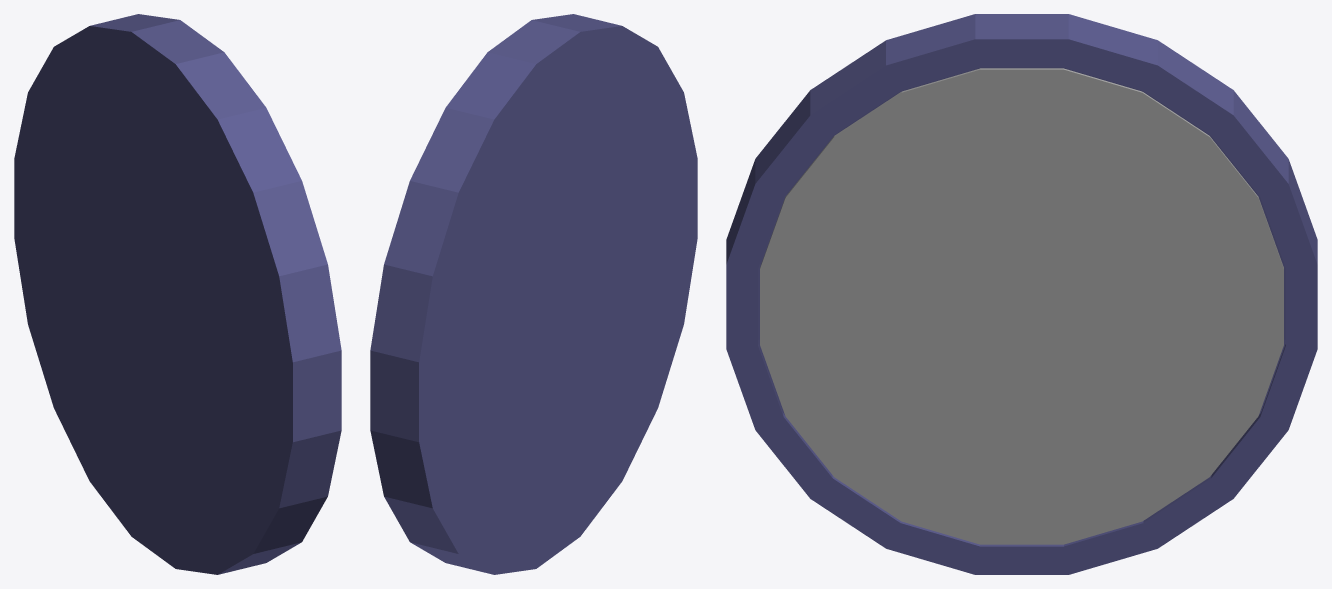
Rendered from DialGlass.fbx.
3 renders of one model, left to right at view 1: azimuth 30°, elevation 25°; view 2: azimuth 150°, elevation 25°; view 3: azimuth 270°, elevation 25°, orthographic. The views are drawn at different scales.
Visible parts, largest first — view 1: Dial20; view 2: Dial20; view 3: Dial20.
Boxes of the visible parts, x1,y1,x2,y2 form: Dial20: (14, 14, 341, 574); Dial20: (370, 14, 697, 574); Dial20: (726, 14, 1317, 574).
Bounding box in the file's own units: 1.28 × 12.68 × 12.68.
